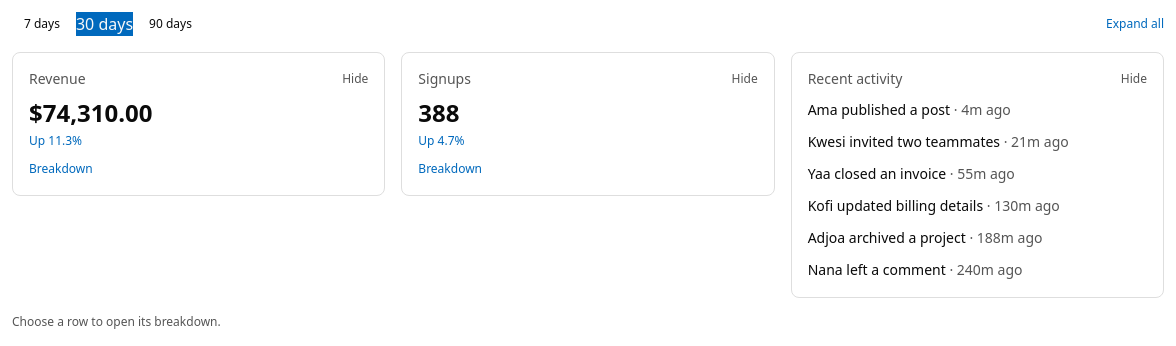
Scenario: WidgetBoardComponent › with the sample widgets › re-evaluates every bound input when the range changes
Click the button "7 days": (42, 24) [12,12,72,36]
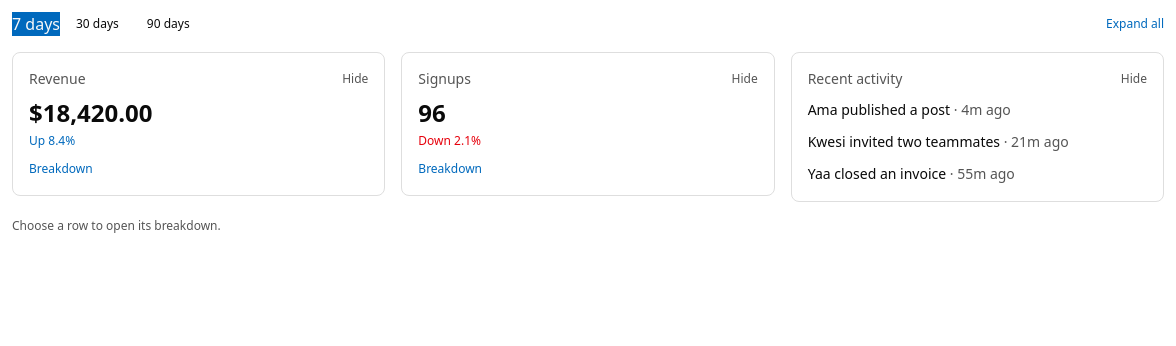
Now the text "$18,420.00" is shown, box [29,96,152,129]
Now the text "96" is shown, box [418,96,446,129]
Now the number of list items is 3, box [808,97,1147,121]; [808,129,1147,153]; [808,161,1147,185]
Click the button "90 days": (168, 24) [135,12,202,36]
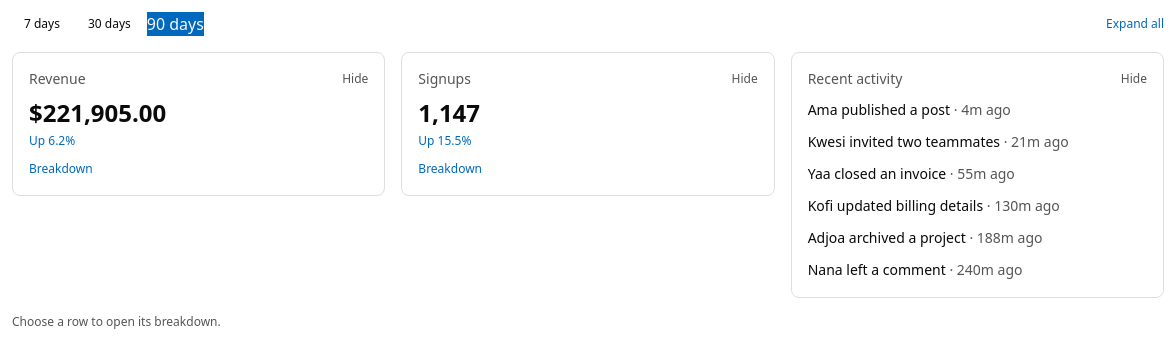
Now the text "$221,905.00" is shown, box [29,96,166,129]
Now the number of list items is 6, box [808,97,1147,121]; [808,129,1147,153]; [808,161,1147,185]; [808,193,1147,217]; [808,225,1147,249]; [808,257,1147,281]
